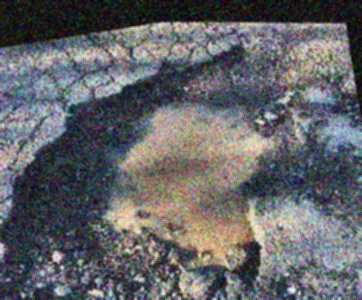pothole: (0, 1, 344, 300)
